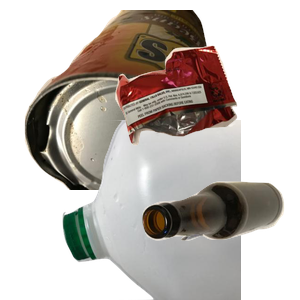glass: (140, 179, 300, 300)
metal: (22, 10, 251, 190)
plastic: (60, 120, 300, 300)
trash: (113, 43, 300, 181)
